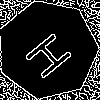H: (22, 24, 82, 82)
